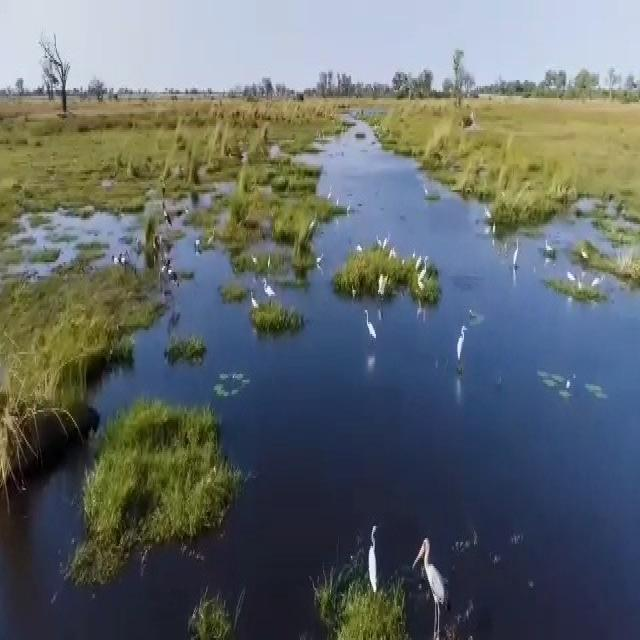Swan: (414, 536, 448, 629), (364, 529, 382, 606), (451, 328, 475, 378), (416, 254, 436, 306), (364, 306, 385, 350), (262, 273, 281, 312), (509, 232, 523, 281), (562, 265, 582, 295), (382, 239, 401, 264), (482, 208, 499, 235), (314, 240, 326, 275), (248, 292, 263, 316), (594, 276, 609, 300), (250, 247, 262, 276), (267, 242, 276, 278), (326, 180, 336, 207), (203, 232, 222, 246), (310, 202, 317, 237), (116, 250, 125, 271)
